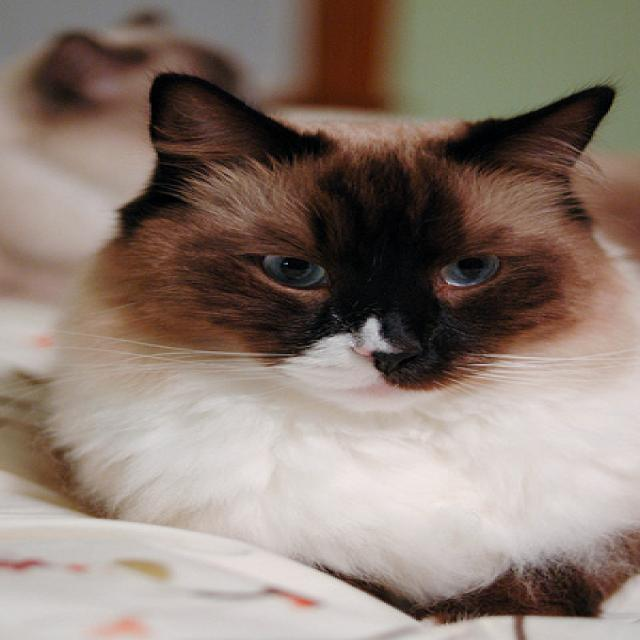Ragdoll: (25, 51, 640, 624)
